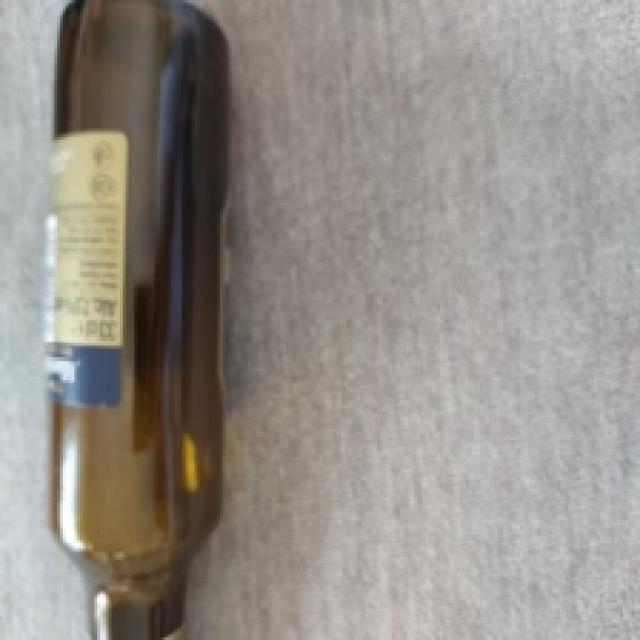Glass: (42, 0, 235, 640)
